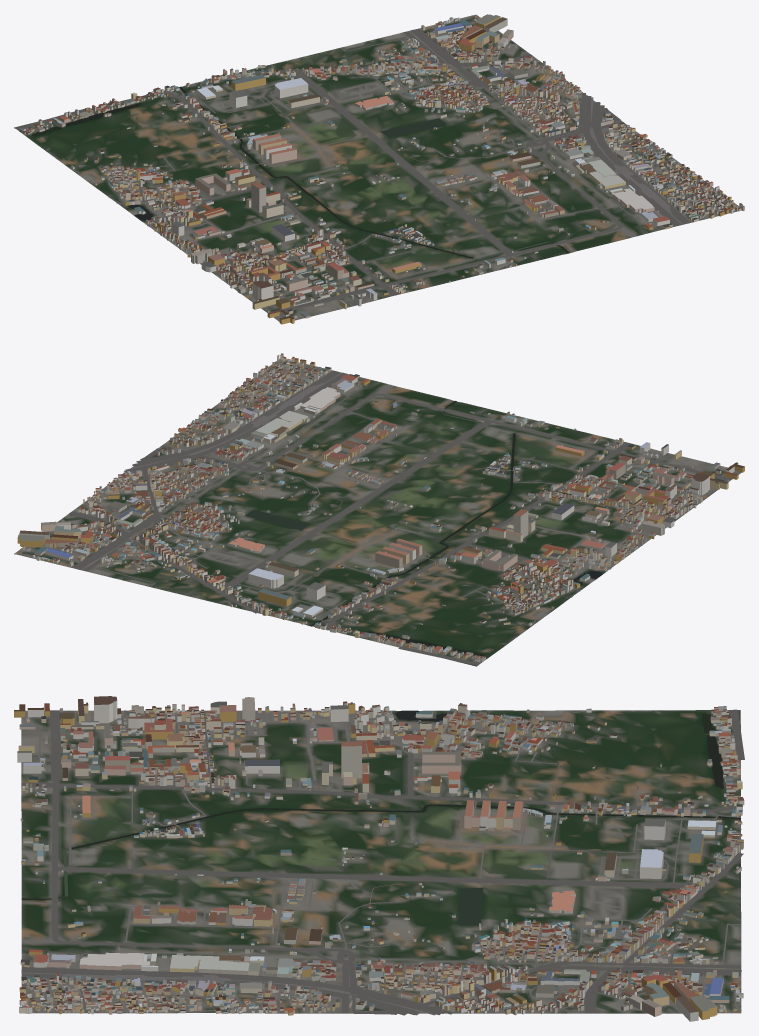
3 views of the same model, one above another, from view 1: azimuth 30°, elevation 25°; view 2: azimuth 150°, elevation 25°; view 3: azimuth 270°, elevation 25° (orthographic). The views are drawn at different scales.
Visible parts, largest first — view 1: ground, buildings, roads, water; view 2: ground, buildings, roads, water; view 3: ground, buildings, roads, water.
Boxes of the visible parts, bbox=[...] form: ground: bbox=[14, 14, 741, 321]; buildings: bbox=[19, 14, 744, 324]; roads: bbox=[15, 15, 738, 319]; water: bbox=[32, 86, 569, 259]; ground: bbox=[14, 358, 741, 666]; buildings: bbox=[17, 353, 744, 662]; roads: bbox=[17, 360, 739, 665]; water: bbox=[245, 401, 601, 656]; ground: bbox=[21, 710, 741, 1013]; buildings: bbox=[14, 696, 744, 1021]; roads: bbox=[21, 709, 744, 1015]; water: bbox=[21, 710, 740, 925].
Bounding box in the file's own units: 1455 × 73.08 × 1424.
